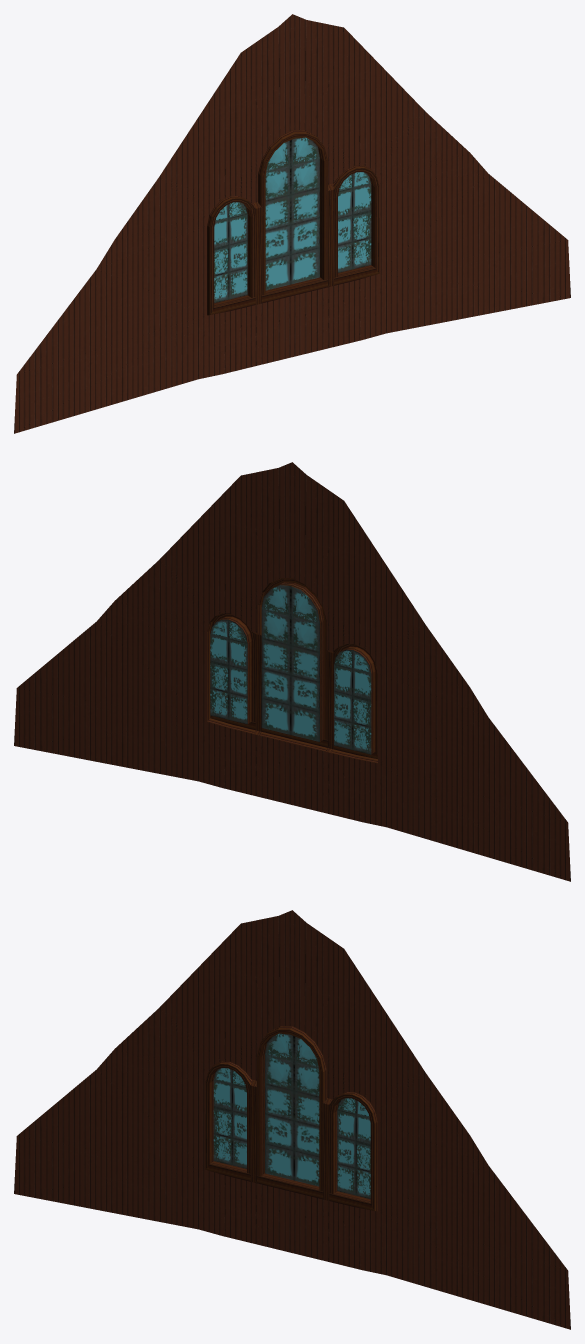
Rendered from CeilingEndcapShorter.fbx.
The picture shows the model from 3 angles, top to bottom: view 1: azimuth 30°, elevation 25°; view 2: azimuth 150°, elevation 25°; view 3: azimuth 330°, elevation 25°; orthographic projection.
Parts seen in each view (by area): view 1: Circle.001; view 2: Circle.001; view 3: Circle.001.
Boxes of the visible parts, x1=… form: Circle.001: x1=14, y1=14, x2=570, y2=433; Circle.001: x1=14, y1=462, x2=570, y2=881; Circle.001: x1=14, y1=910, x2=570, y2=1329.
Bounding box in the file's own units: 855 × 516 × 10.94.
